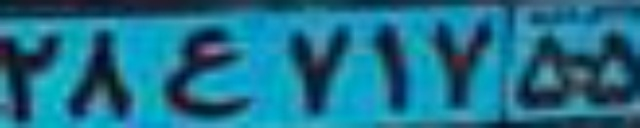1: (369, 21, 408, 116)
2: (0, 32, 61, 122)
5: (584, 29, 639, 107), (515, 33, 570, 109)
7: (282, 23, 355, 116), (428, 17, 490, 107)
8: (70, 29, 133, 118)
ain: (161, 26, 249, 117)
